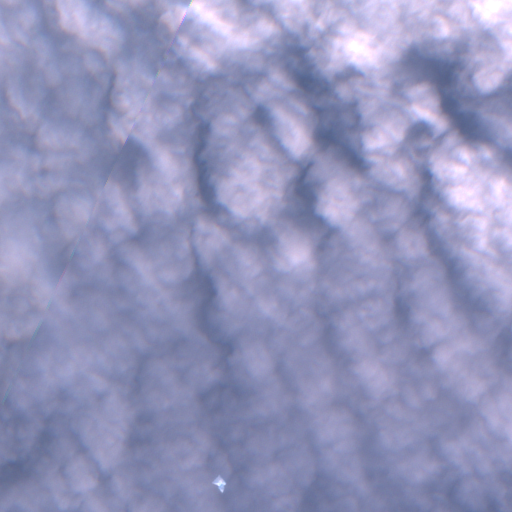Iceberg: (212, 475, 226, 492)
